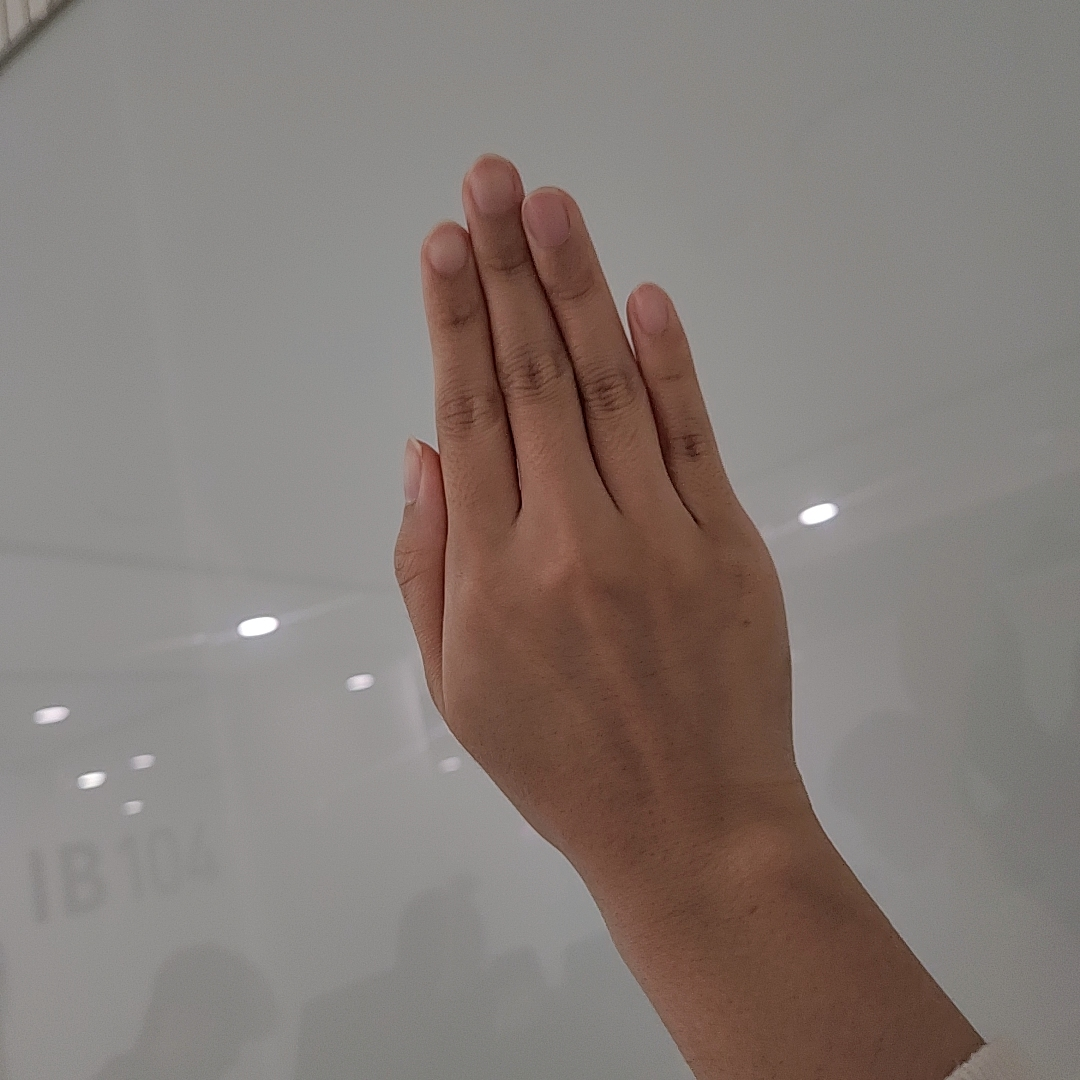me: (393, 154, 811, 865)
